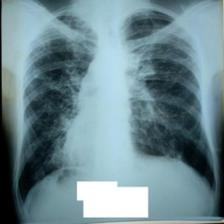tuberculosis: (7, 0, 221, 224)
